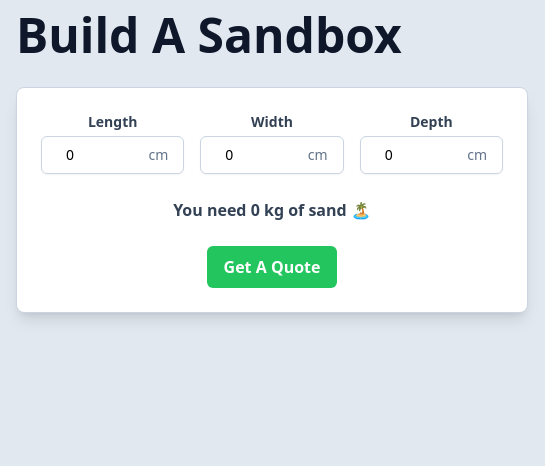
Scenario: Quote calculation › should hide the quote when the user change form values
The image size is (545, 466).
Type "10" into the number field labelled "Length".
click(113, 155); type("10")  # box [41, 136, 184, 174]
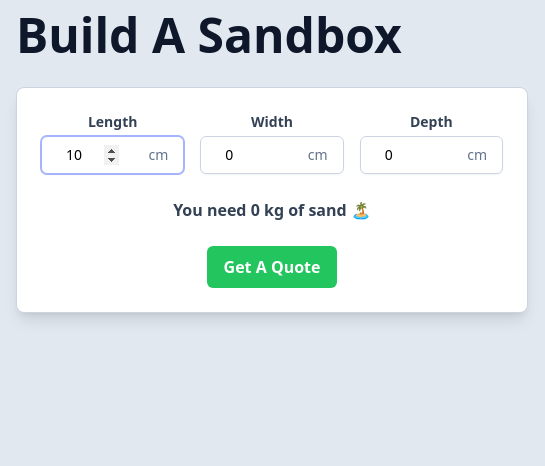
Type "10" into the number field labelled "Width".
click(272, 155); type("10")  # box [200, 136, 344, 174]
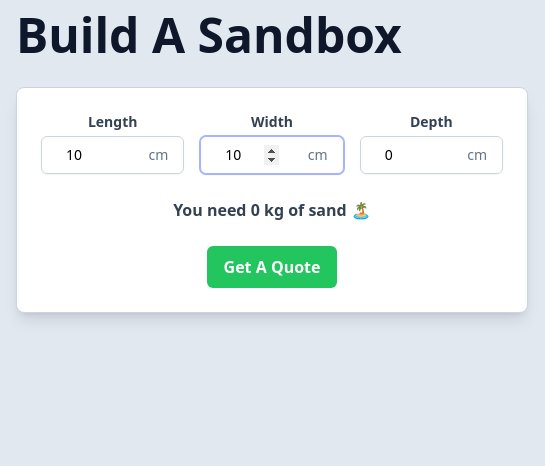
Type "10" into the number field labelled "Depth".
click(431, 155); type("10")  # box [360, 136, 503, 174]
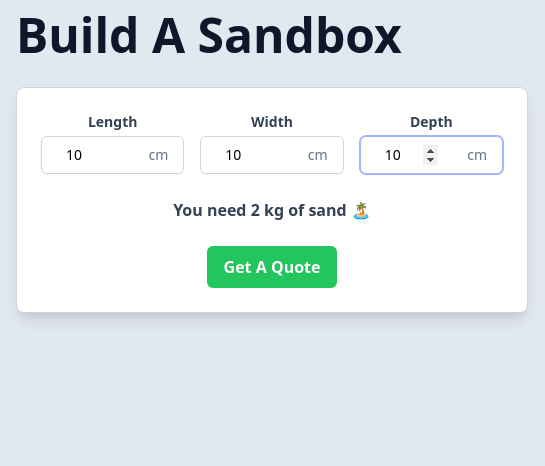
Click the button.
click(272, 267)  # box [206, 246, 337, 288]
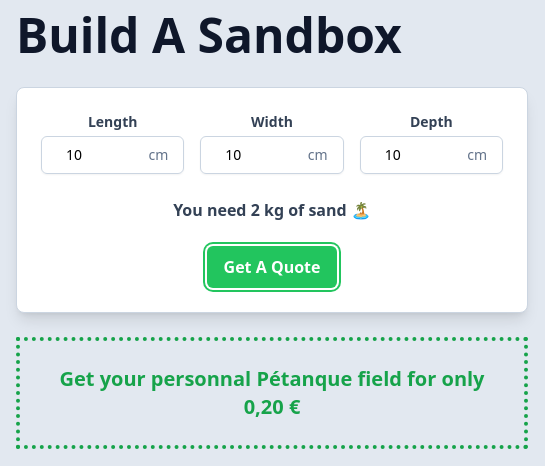
Result: the text "Get your personnal Pétanque field for only 0,20 €" is shown at [16, 337, 528, 449]
Type "100" into the number field labelled "Length".
click(113, 155); type("100")  # box [41, 136, 184, 174]
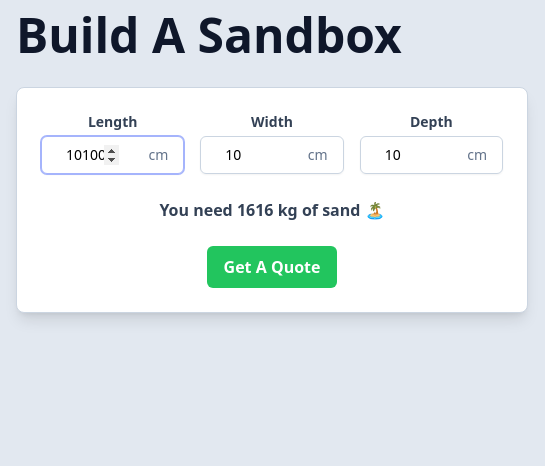
Result: the text "Get your personnal Pétanque field for only 0,20 €" is gone
